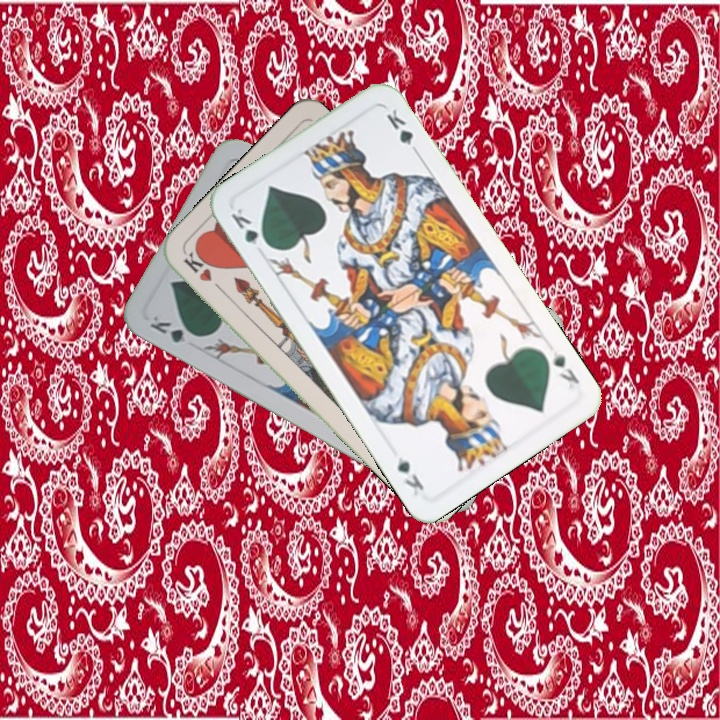GK: (226, 204, 273, 251), (145, 310, 202, 348), (548, 347, 582, 392)
HK: (179, 247, 228, 296)
